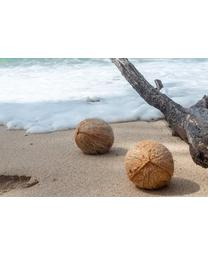coconut: (126, 137, 175, 192), (76, 116, 115, 158)
